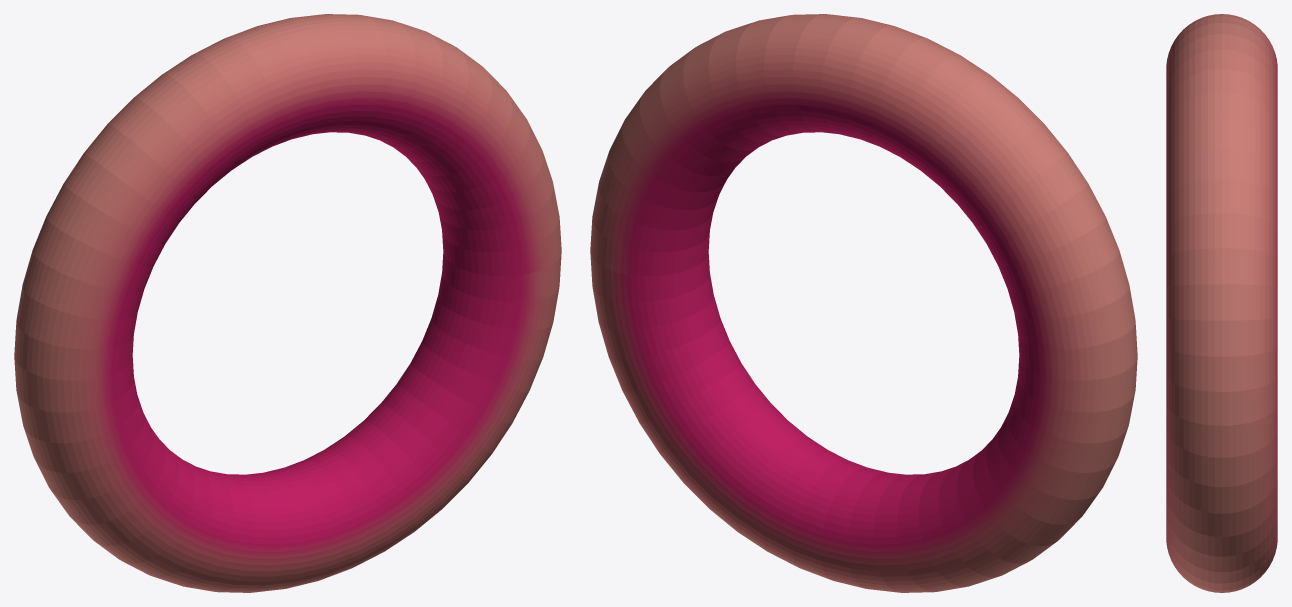
The picture shows the model from 3 angles, left to right: view 1: azimuth 30°, elevation 25°; view 2: azimuth 150°, elevation 25°; view 3: azimuth 270°, elevation 25°; orthographic projection. The views are drawn at different scales.
Parts seen in each view (by area): view 1: world; view 2: world; view 3: world.
Boxes of the visible parts, box(x1,y1,x2,y2) form: world: box(14, 14, 561, 592); world: box(590, 14, 1137, 592); world: box(1166, 14, 1277, 592).
Bounding box in the file's own units: 33.87 × 33.8 × 6.52.
